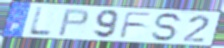2: (182, 14, 212, 44)
9: (91, 9, 121, 40)
F: (117, 11, 155, 39)
L: (27, 6, 53, 37)
P: (56, 8, 90, 37)
S: (150, 11, 186, 42)
